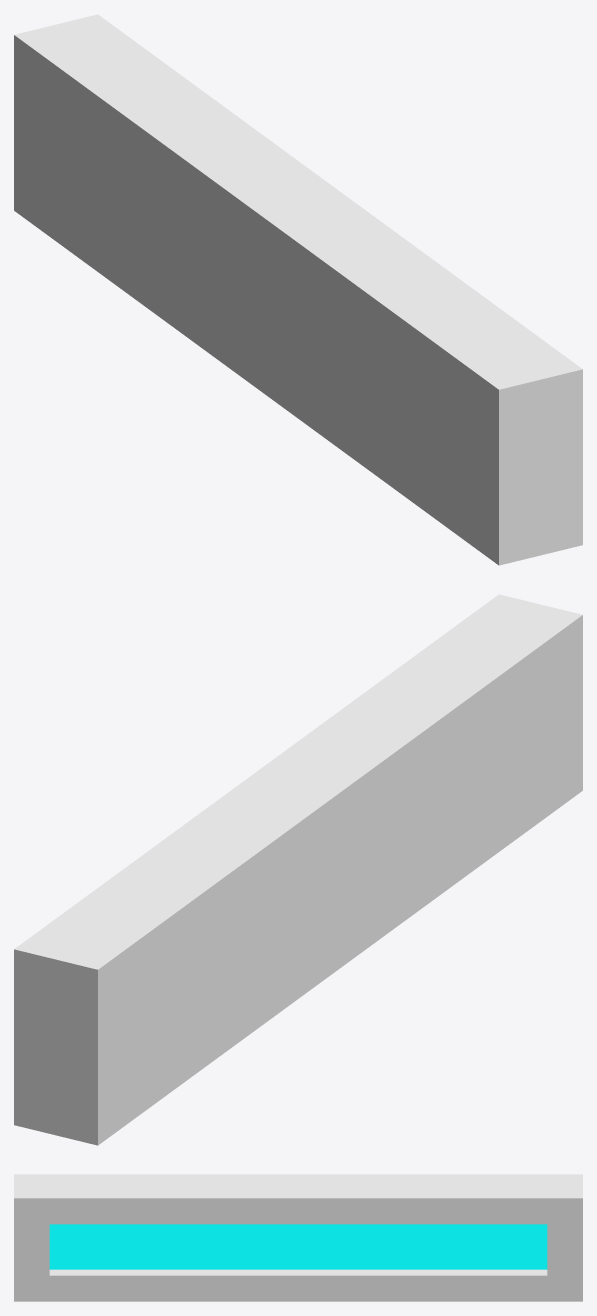
Rendered from ManaBar.glb.
3 views of the same model, one above another, from view 1: azimuth 30°, elevation 25°; view 2: azimuth 150°, elevation 25°; view 3: azimuth 270°, elevation 25° (orthographic). The views are drawn at different scales.
Parts seen in each view (by area): view 1: Cube; view 2: Cube; view 3: Cube.
Part boxes in pixels (bbox=[...]): Cube: bbox=[14, 14, 582, 565]; Cube: bbox=[14, 594, 582, 1145]; Cube: bbox=[14, 1174, 582, 1301].
Size of the model in its own units: 0.2 by 0.4 by 2.
1 material, 1 textured.
